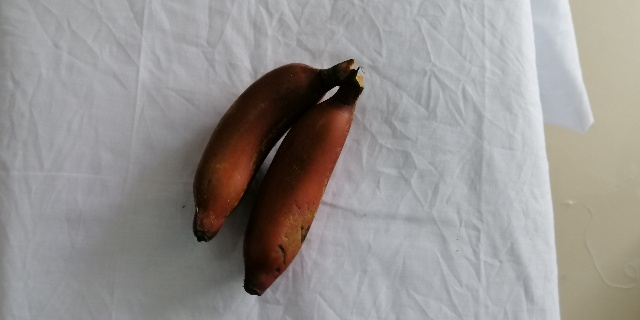banana_red: (190, 62, 352, 241), (240, 74, 362, 304)
